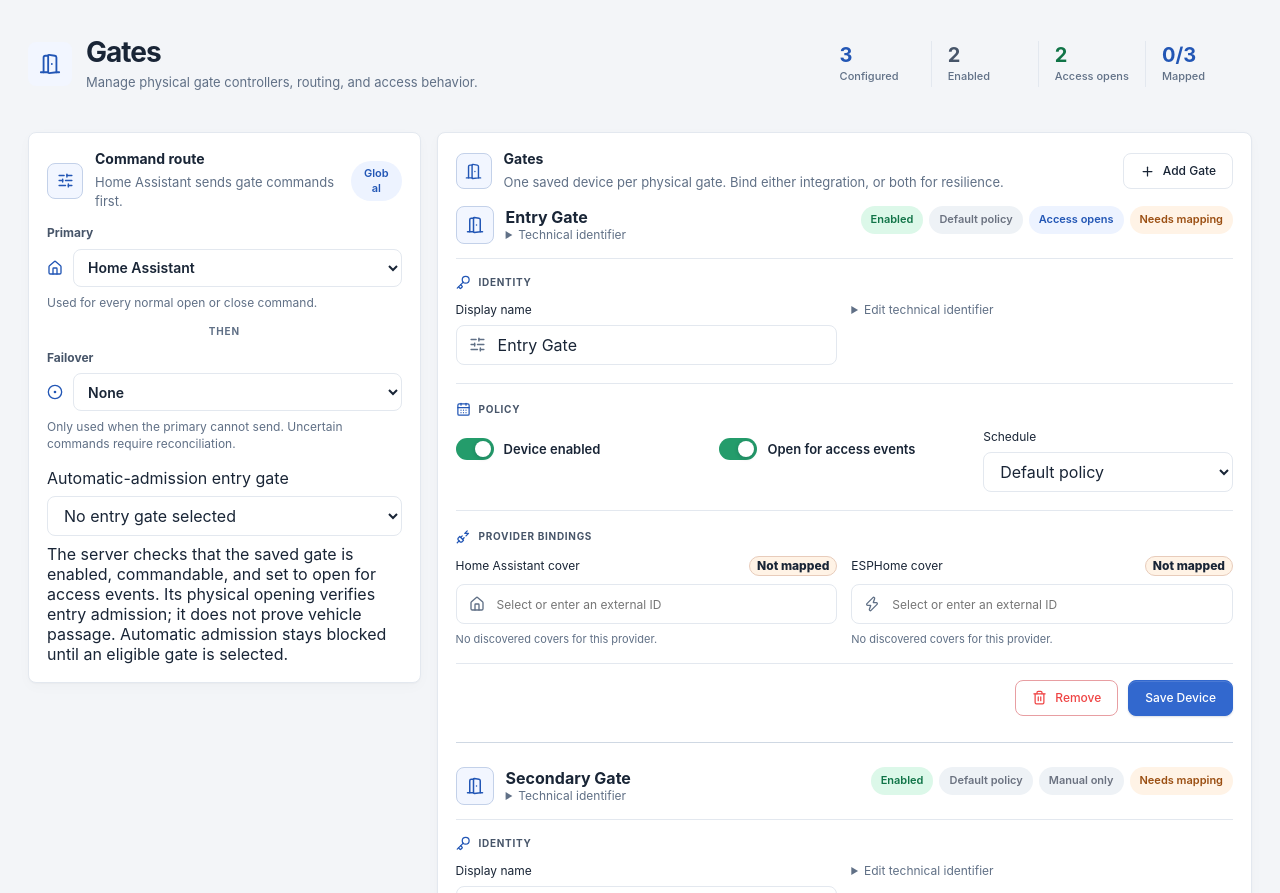
Test: starts unselected despite eligible-looking devices and only saves the explicit operator choice
Select "Entry Gate" in the dropdown labelled "Automatic-admission entry gate" at point(224, 516), box [47,496,402,536]
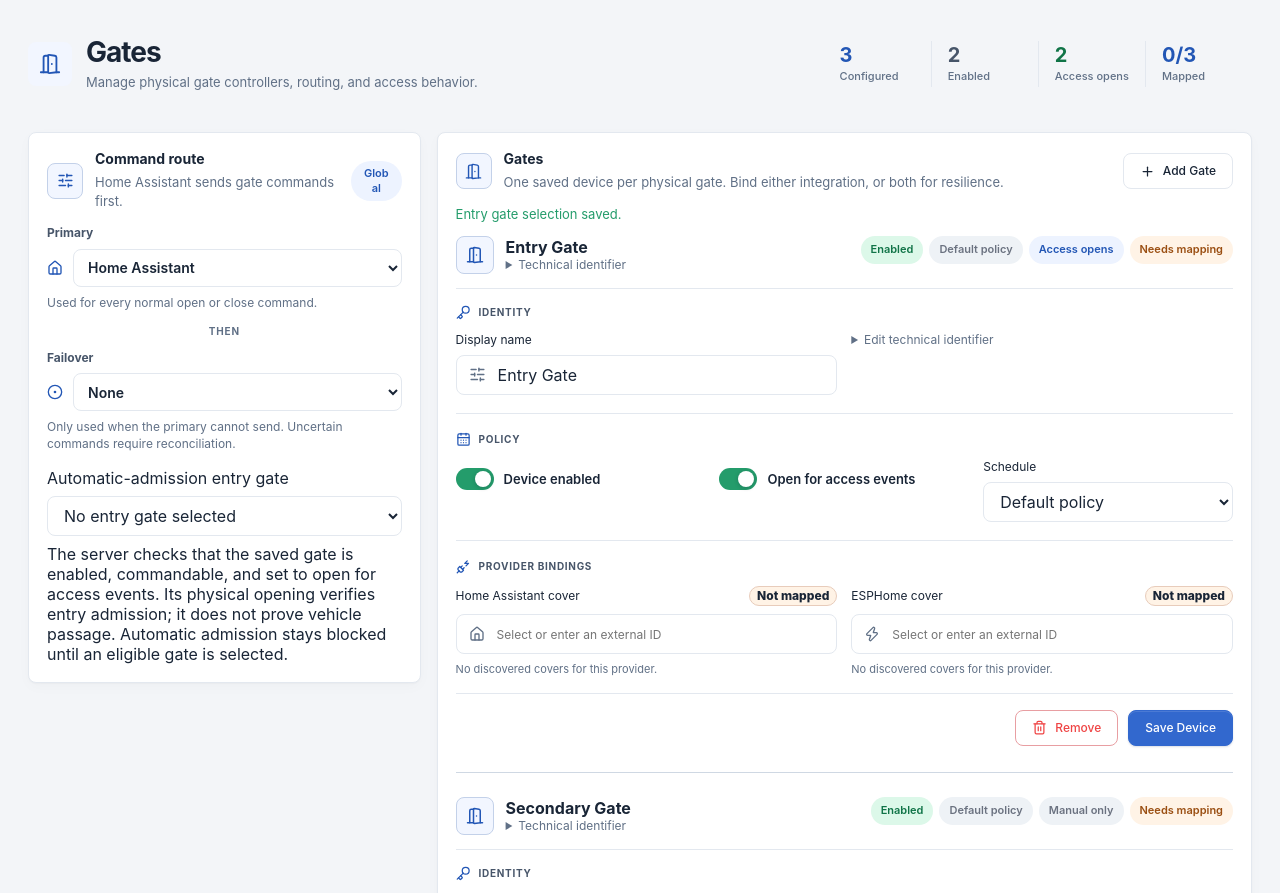
Check: the text "Entry gate selection saved." is shown, box [456,206,622,222]
